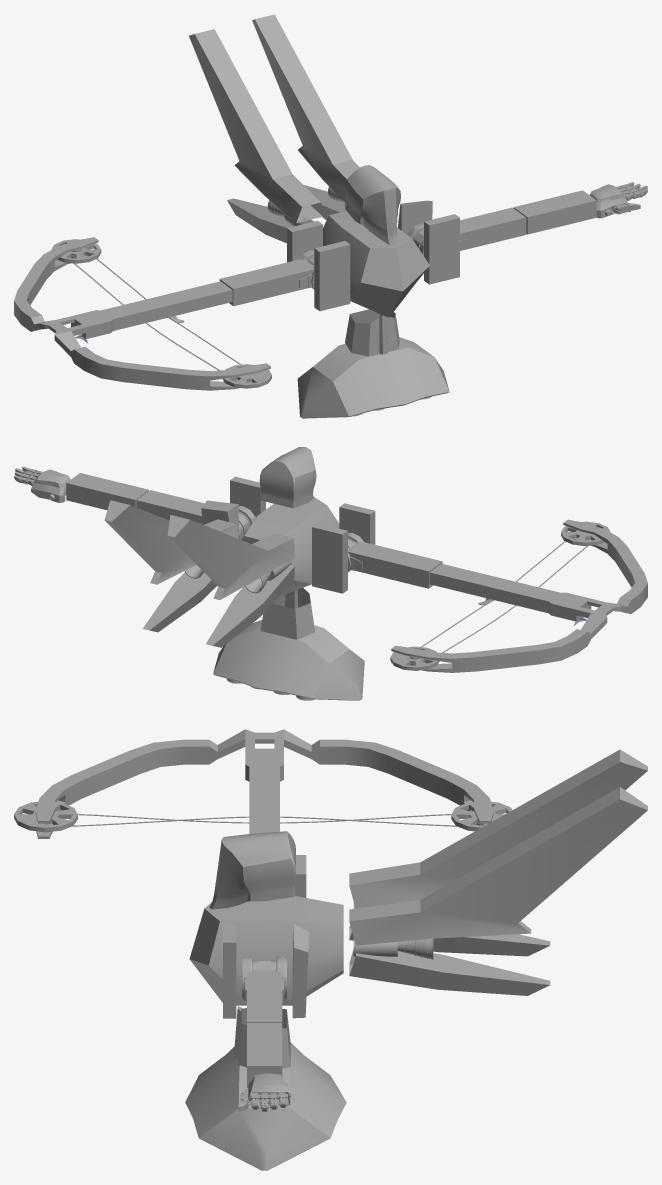
3 renders of one model, top to bottom at view 1: azimuth 30°, elevation 25°; view 2: azimuth 150°, elevation 25°; view 3: azimuth 270°, elevation 25°, orthographic. The views are drawn at different scales.
Visible parts, largest first — view 1: pCube4 (×2), Bow, BoosterCover, BodyCore, R_Shoulder, Face, L_Shoulder, R_UpperArm, L_LowerArm, waist, L_UpperArm, pCube5 (+3 smaller); view 2: Bow, pCube4 (×2), BoosterCover, pCube5 (×2), BodyCore, R_Shoulder, Face, R_UpperArm, waist, L_LowerArm, L_Shoulder, L_UpperArm (+4 smaller); view 3: pCube4 (×2), Bow, BoosterCover, BodyCore, pCube5 (×2), Face, L_Shoulder, L_LowerArm, L_UpperArm, pCylinder1, waist, polySurface1 (+4 smaller).
Boxes of the visible parts, x1=… form: pCube4 (×2): x1=189, y1=14, x2=359, y2=223; Bow: x1=14, y1=237, x2=270, y2=390; BoosterCover: x1=297, y1=337, x2=449, y2=418; BodyCore: x1=323, y1=211, x2=429, y2=317; R_Shoulder: x1=287, y1=220, x2=350, y2=311; Face: x1=344, y1=165, x2=400, y2=245; L_Shoulder: x1=397, y1=200, x2=459, y2=284; R_UpperArm: x1=219, y1=259, x2=314, y2=306; L_LowerArm: x1=513, y1=190, x2=596, y2=234; waist: x1=345, y1=309, x2=399, y2=356; L_UpperArm: x1=460, y1=207, x2=526, y2=250; pCube5: x1=227, y1=198, x2=293, y2=243; Bow: x1=391, y1=519, x2=647, y2=672; pCube4 (×2): x1=104, y1=500, x2=294, y2=599; BoosterCover: x1=213, y1=620, x2=364, y2=700; pCube5 (×2): x1=142, y1=565, x2=294, y2=647; BodyCore: x1=242, y1=497, x2=339, y2=595; R_Shoulder: x1=312, y1=503, x2=375, y2=593; Face: x1=259, y1=447, x2=316, y2=508; R_UpperArm: x1=348, y1=541, x2=442, y2=588; waist: x1=260, y1=588, x2=314, y2=639; L_LowerArm: x1=66, y1=473, x2=148, y2=509; L_Shoulder: x1=201, y1=476, x2=265, y2=538; L_UpperArm: x1=136, y1=490, x2=204, y2=523; pCube4 (×2): x1=349, y1=749, x2=647, y2=945; Bow: x1=35, y1=729, x2=493, y2=838; BoosterCover: x1=185, y1=1042, x2=346, y2=1170; BodyCore: x1=189, y1=896, x2=343, y2=1005; pCube5 (×2): x1=349, y1=925, x2=550, y2=995; Face: x1=209, y1=831, x2=295, y2=909; L_Shoulder: x1=223, y1=923, x2=308, y2=1018; L_LowerArm: x1=247, y1=1023, x2=282, y2=1087; L_UpperArm: x1=247, y1=969, x2=282, y2=1022; pCylinder1: x1=14, y1=801, x2=77, y2=832; waist: x1=234, y1=1006, x2=290, y2=1068; polySurface1: x1=451, y1=801, x2=512, y2=831.
Size of the model in its own units: 367 by 161 by 262.
